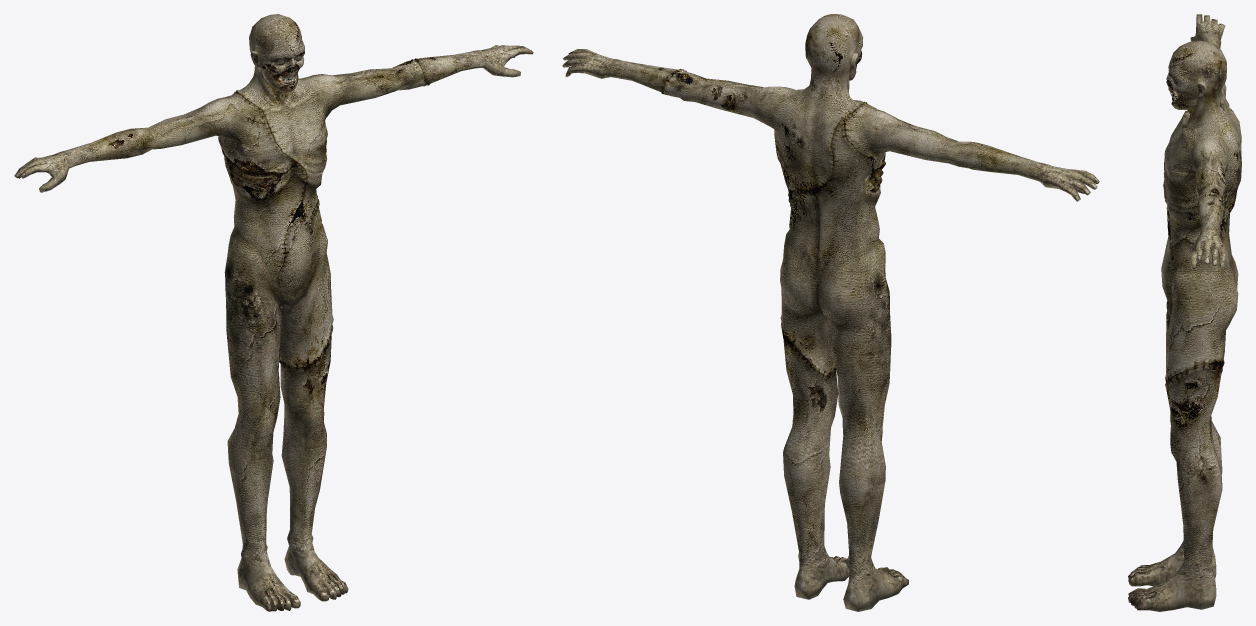
3 views of the same model, side by side, from view 1: azimuth 30°, elevation 25°; view 2: azimuth 150°, elevation 25°; view 3: azimuth 270°, elevation 25° (orthographic). The views are drawn at different scales.
Parts seen in each view (by area): view 1: Mesh.088_mesh0317; view 2: Mesh.088_mesh0317; view 3: Mesh.088_mesh0317.
Boxes of the visible parts, x1,y1,x2,y2 form: Mesh.088_mesh0317: [14, 14, 533, 611]; Mesh.088_mesh0317: [562, 14, 1099, 611]; Mesh.088_mesh0317: [1128, 14, 1241, 611].
Bounding box in the file's own units: 17.46 × 18.2 × 3.42.
Materials: 2 (2 with a texture image).
